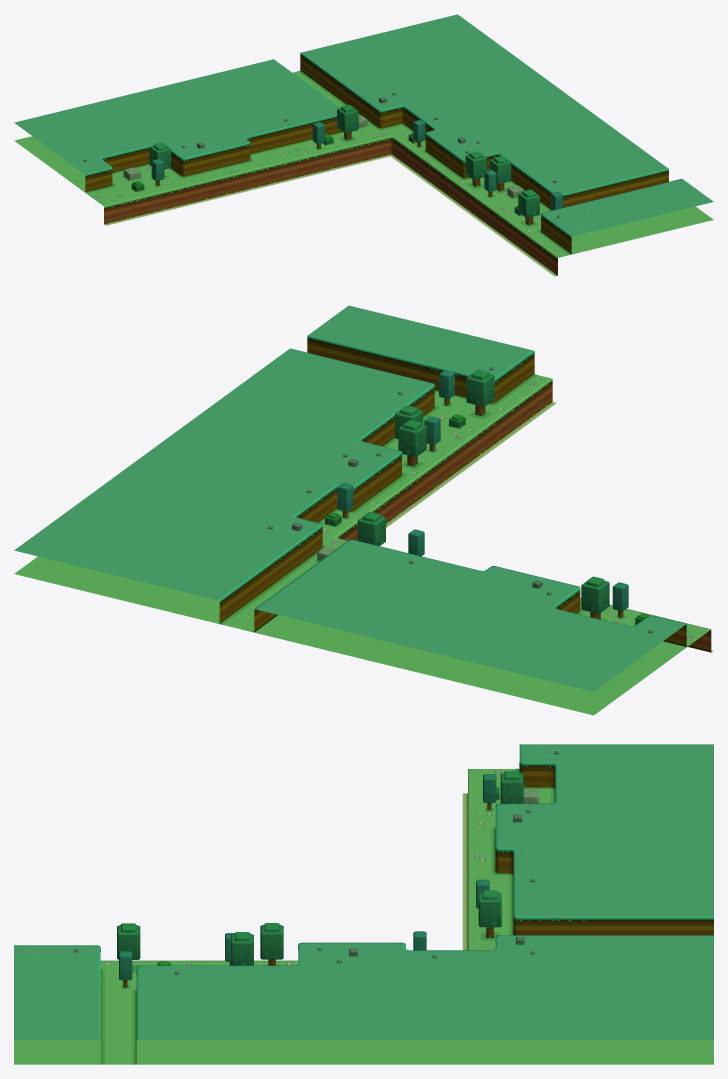
File: C_grass1_out_LD.fbx
3 views of the same model, one above another, from view 1: azimuth 30°, elevation 25°; view 2: azimuth 150°, elevation 25°; view 3: azimuth 270°, elevation 25° (orthographic). The views are drawn at different scales.
Visible parts, largest first — view 1: C_grass1_out_LD; view 2: C_grass1_out_LD; view 3: C_grass1_out_LD.
Part boxes in pixels (x1=…): C_grass1_out_LD: x1=14, y1=14, x2=713, y2=276; C_grass1_out_LD: x1=14, y1=305, x2=713, y2=715; C_grass1_out_LD: x1=14, y1=744, x2=713, y2=1064.
Bounding box in the file's own units: 117 × 12.59 × 117.
Materials: 1 (1 with a texture image).
